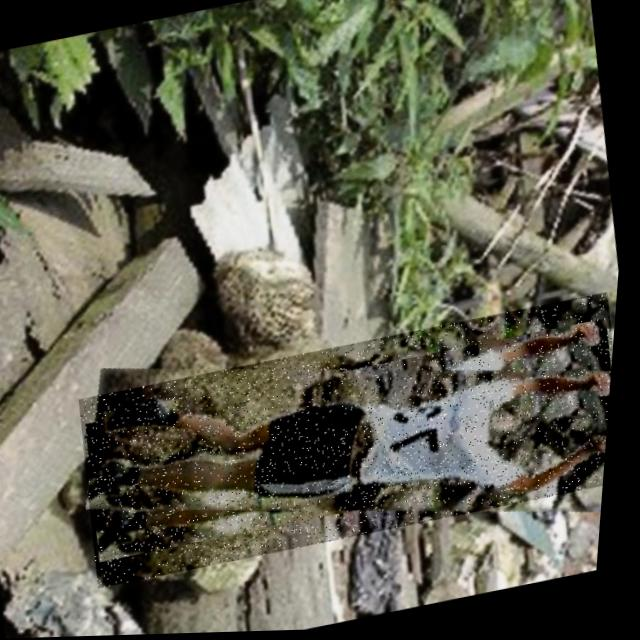Person in Rubble: (73, 295, 622, 590)
